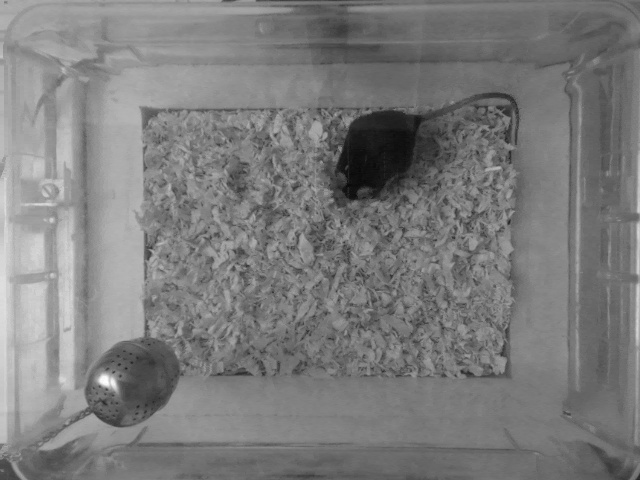mice: (329, 88, 518, 205)
